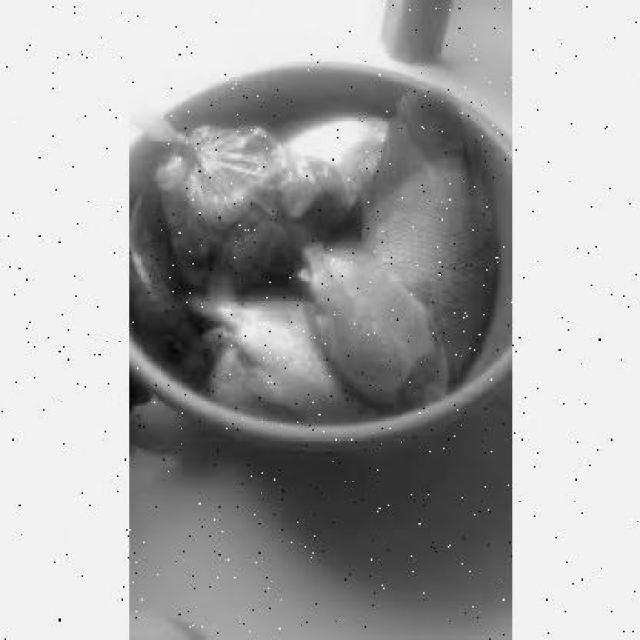ikan-pacu: (304, 243, 450, 412)
